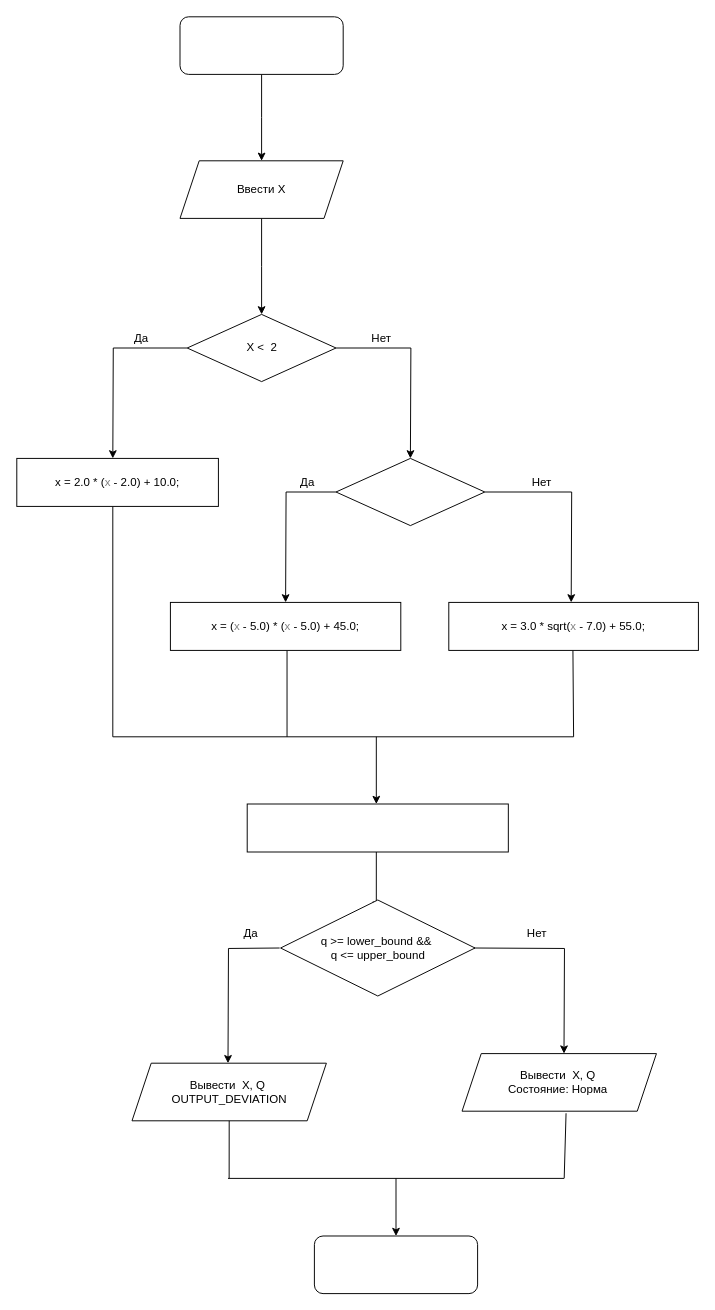
Image size: 715x1310. Some labels were removed from this diagram. The centre of each missing label's shape, as x and y in pixels:
"double lower_bound = Q0 - DQ_MAX ; double upper_bound = Q0 + DQ_MAX ;" goes at [377,827].
"X <= 8" goes at [410,491].
"Конец" goes at [395,1264].
"Начало" goes at [261,45].
